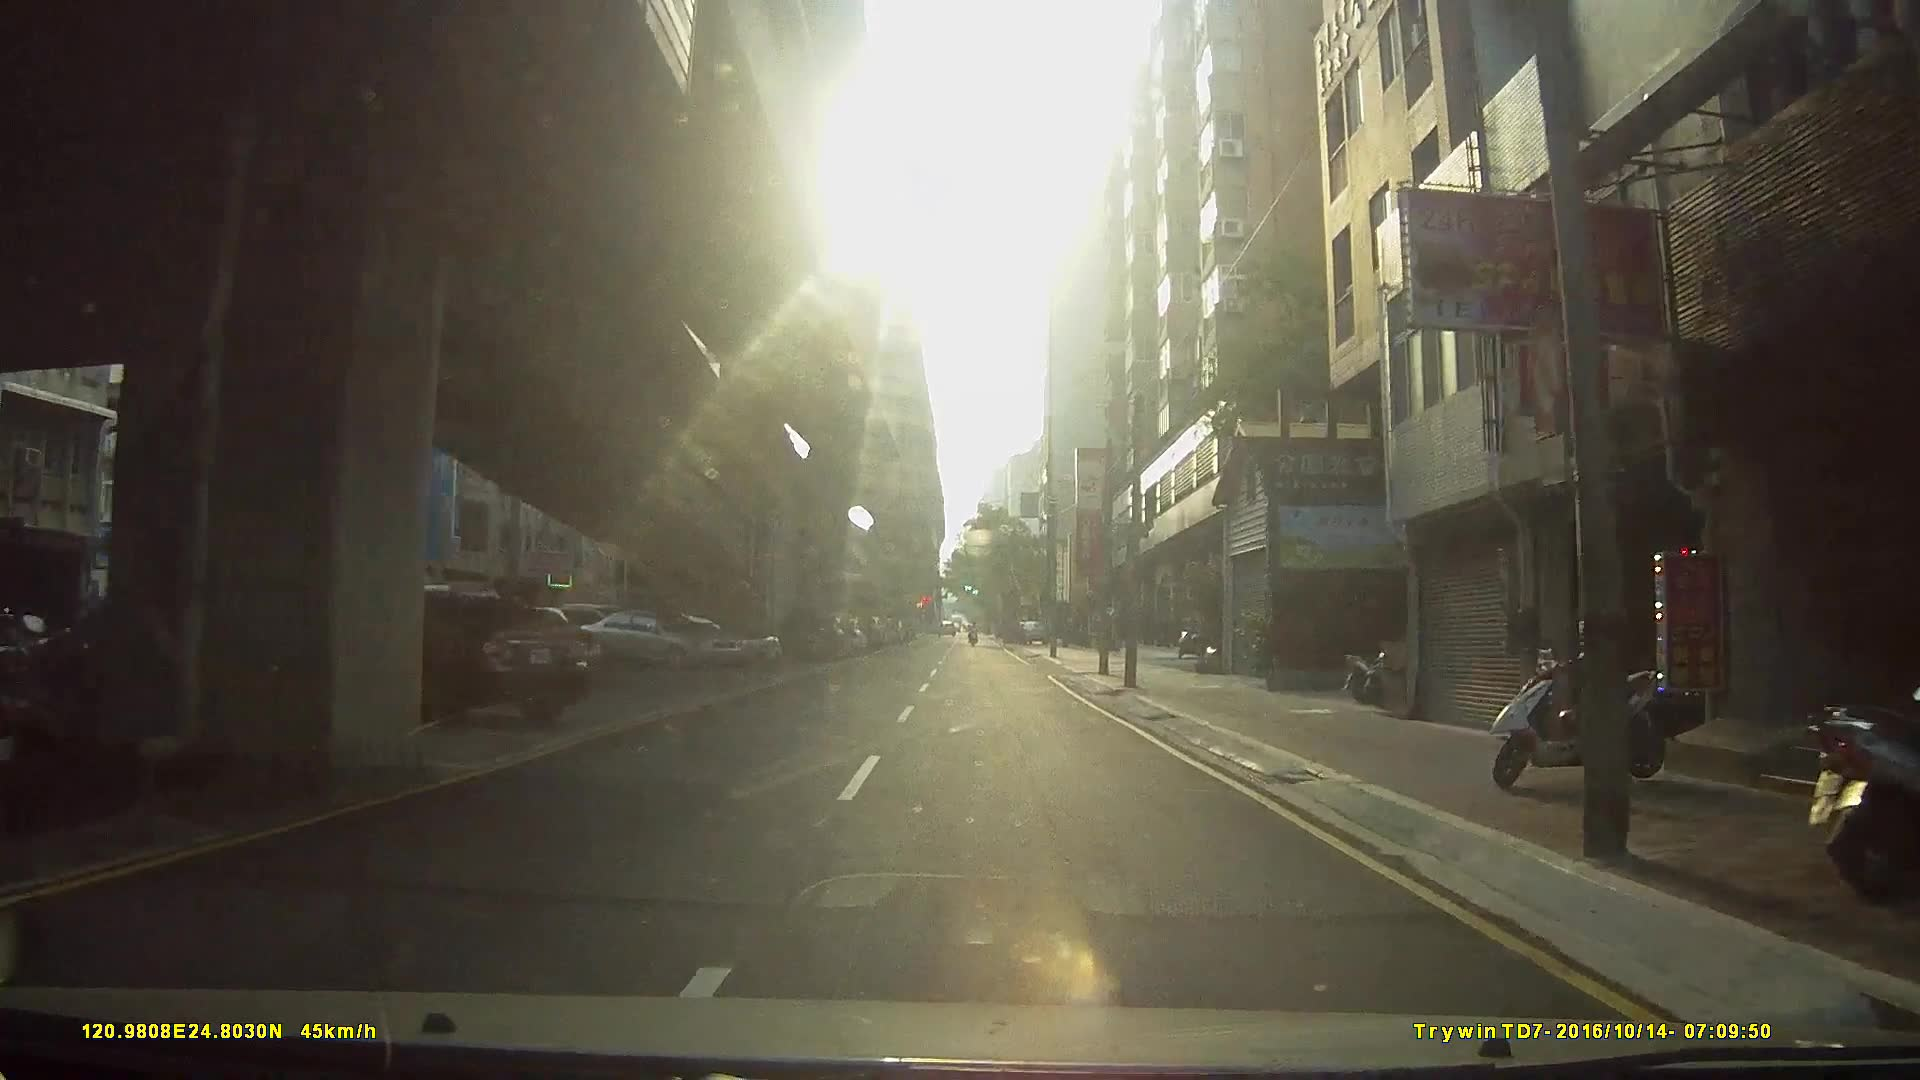vehicle: (343, 596, 592, 732), (576, 609, 745, 671), (781, 607, 845, 665)
